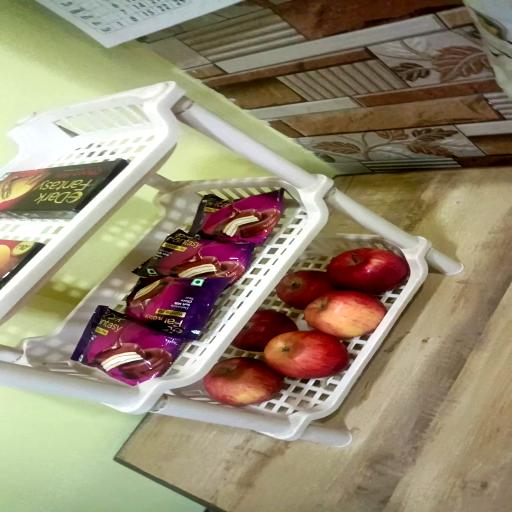Apple: (264, 331, 348, 379), (304, 290, 386, 338), (203, 357, 283, 406), (328, 248, 409, 294), (231, 309, 298, 352), (276, 270, 336, 309)
Choco Fills: (0, 159, 128, 219), (0, 239, 45, 289)
Choco Pie: (72, 306, 186, 386), (133, 230, 255, 285), (125, 276, 229, 340), (198, 189, 283, 245)
